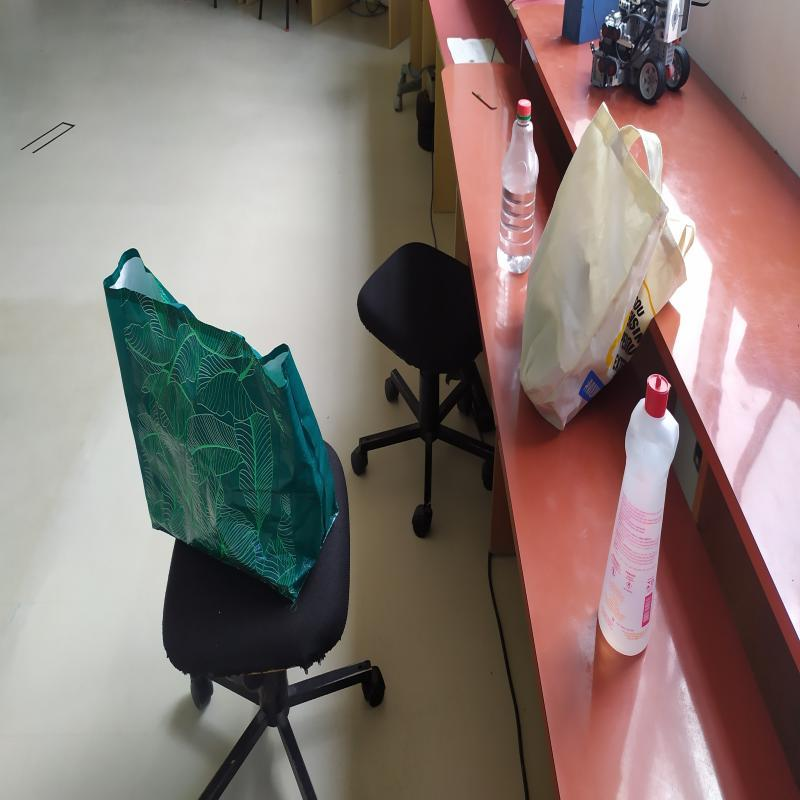Bag: (98, 256, 342, 610), (517, 95, 699, 447)
